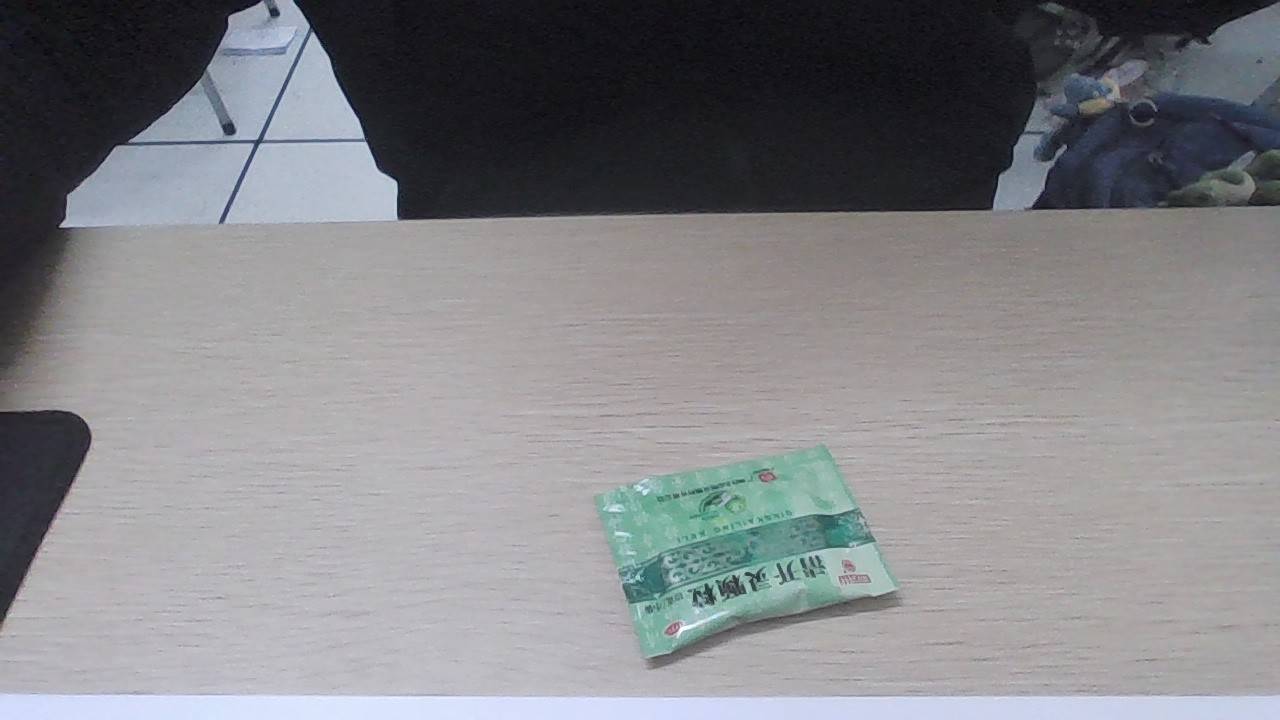YH-green medicine: (602, 460, 875, 624)
